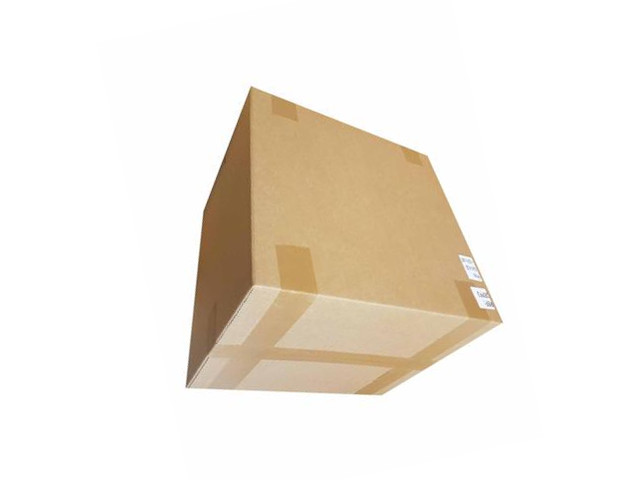cardboard: (186, 84, 498, 393)
